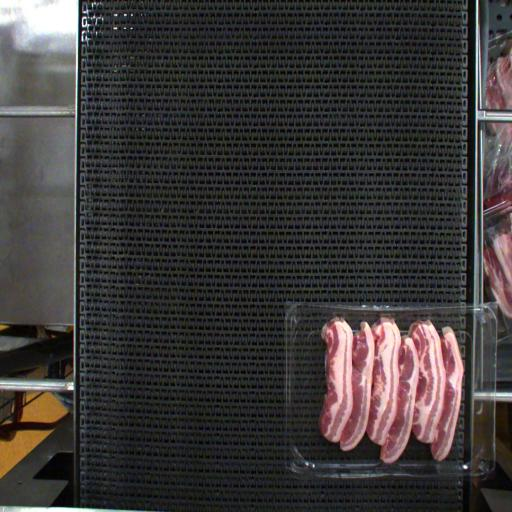packaging-error: (330, 310, 348, 322)
